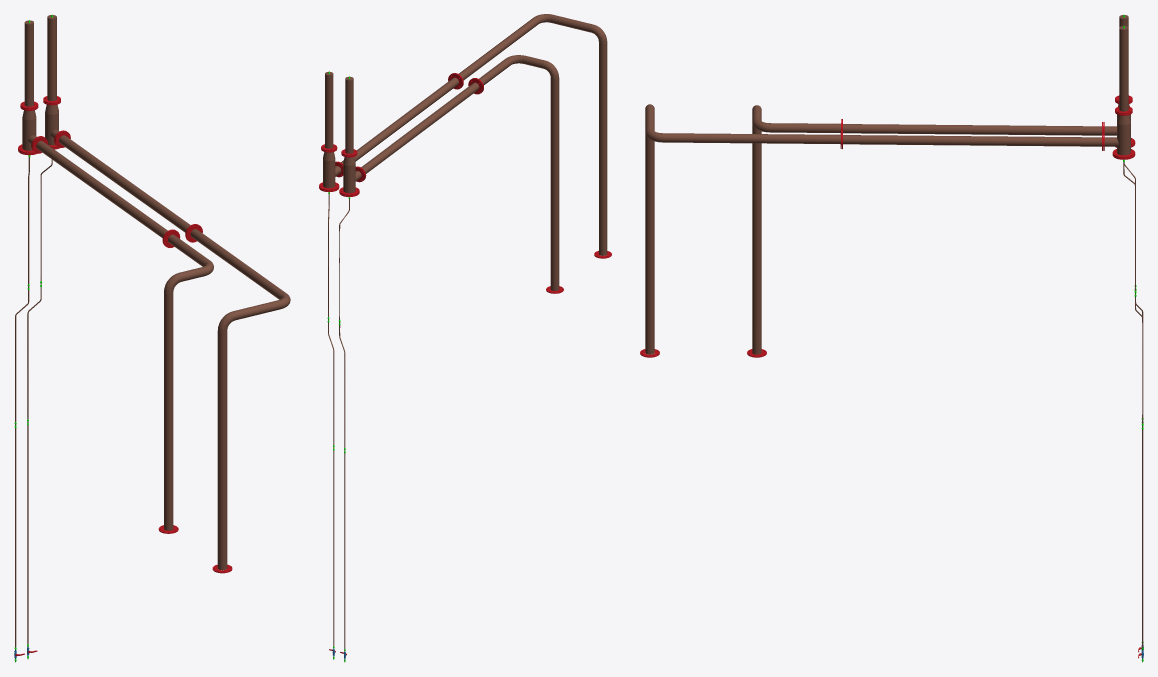
Rendered from Phase44b.fbx.
3 renders of one model, left to right at view 1: azimuth 30°, elevation 25°; view 2: azimuth 150°, elevation 25°; view 3: azimuth 270°, elevation 25°, orthographic. The views are drawn at different scales.
Visible parts, largest first — view 1: Типы трубопроводов:CPS_Бесшовная труба из нс:1477214, Типы трубопроводов:CPS_Бесшовная труба из нс:1476986, Типы трубопроводов:CPS_Бесшовная труба из нс:1365415, Типы трубопроводов:CPS_Бесшовная труба из нс:1278402, Типы трубопроводов:CPS_Бесшовная труба из нс:1291446, Типы трубопроводов:CPS_Бесшовная труба из нс:1477253, Типы трубопроводов:CPS_Бесшовная труба из нс:1454002, Типы трубопроводов:CPS_Бесшовная труба из нс:1291459, Типы трубопроводов:CPS_Бесшовная труба из нс:1291457, Типы трубопроводов:CPS_Бесшовная труба из нс:1478538, Типы трубопроводов:CPS_Бесшовная труба из нс:1478067, 1:Исполнение 1:1422409; view 2: Типы трубопроводов:CPS_Бесшовная труба из нс:1476986, Типы трубопроводов:CPS_Бесшовная труба из нс:1477214, Типы трубопроводов:CPS_Бесшовная труба из нс:1278402, Типы трубопроводов:CPS_Бесшовная труба из нс:1365415, Типы трубопроводов:CPS_Бесшовная труба из нс:1291446, Типы трубопроводов:CPS_Бесшовная труба из нс:1454002, Типы трубопроводов:CPS_Бесшовная труба из нс:1477253; view 3: Типы трубопроводов:CPS_Бесшовная труба из нс:1278402, Типы трубопроводов:CPS_Бесшовная труба из нс:1365415, Типы трубопроводов:CPS_Бесшовная труба из нс:1476986, Типы трубопроводов:CPS_Бесшовная труба из нс:1477214, Типы трубопроводов:CPS_Бесшовная труба из нс:1291446, Типы трубопроводов:CPS_Бесшовная труба из нс:1454002.
Boxes of the visible parts, x1,y1,x2,y2 form: Типы трубопроводов:CPS_Бесшовная труба из нс:1477214: (217,331,227,570); Типы трубопроводов:CPS_Бесшовная труба из нс:1476986: (164,293,173,530); Типы трубопроводов:CPS_Бесшовная труба из нс:1365415: (59,135,190,232); Типы трубопроводов:CPS_Бесшовная труба из нс:1278402: (36,141,167,237); Типы трубопроводов:CPS_Бесшовная труба из нс:1291446: (190,229,285,299); Типы трубопроводов:CPS_Бесшовная труба из нс:1477253: (24,20,33,106); Типы трубопроводов:CPS_Бесшовная труба из нс:1454002: (47,15,56,100); Типы трубопроводов:CPS_Бесшовная труба из нс:1291459: (233,300,281,319); Типы трубопроводов:CPS_Бесшовная труба из нс:1291457: (168,234,209,266); Типы трубопроводов:CPS_Бесшовная труба из нс:1478538: (27,425,28,644); Типы трубопроводов:CPS_Бесшовная труба из нс:1478067: (15,428,16,647); 1:Исполнение 1:1422409: (22,117,36,150); Типы трубопроводов:CPS_Бесшовная труба из нс:1476986: (550,78,559,290); Типы трубопроводов:CPS_Бесшовная труба из нс:1477214: (599,42,607,255); Типы трубопроводов:CPS_Бесшовная труба из нс:1278402: (361,82,479,173); Типы трубопроводов:CPS_Бесшовная труба из нс:1365415: (341,77,458,163); Типы трубопроводов:CPS_Бесшовная труба из нс:1291446: (459,17,539,80); Типы трубопроводов:CPS_Бесшовная труба из нс:1454002: (325,71,333,148); Типы трубопроводов:CPS_Бесшовная труба из нс:1477253: (345,76,353,153); Типы трубопроводов:CPS_Бесшовная труба из нс:1278402: (843,124,1101,135); Типы трубопроводов:CPS_Бесшовная труба из нс:1365415: (843,135,1101,146); Типы трубопроводов:CPS_Бесшовная труба из нс:1476986: (752,123,761,354); Типы трубопроводов:CPS_Бесшовная труба из нс:1477214: (645,133,654,354); Типы трубопроводов:CPS_Бесшовная труба из нс:1291446: (663,133,840,143); Типы трубопроводов:CPS_Бесшовная труба из нс:1454002: (1119,26,1128,111).
Bounding box in the file's own units: 1144 × 5802 × 8197.
